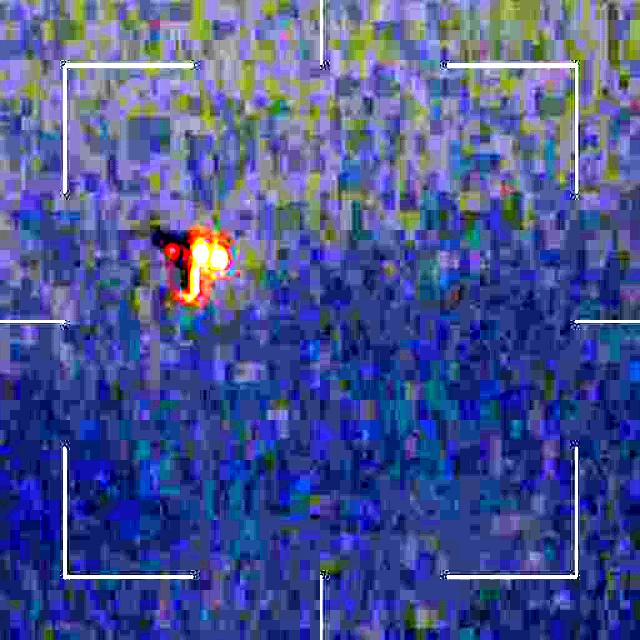bird: (154, 234, 240, 308)
